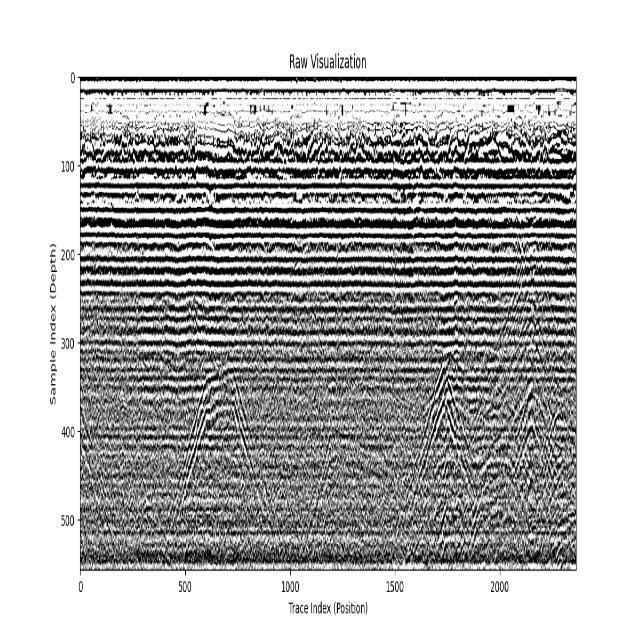anomaly: (154, 368, 280, 569), (392, 355, 479, 565), (304, 417, 405, 560), (491, 386, 574, 560), (81, 404, 126, 568)
